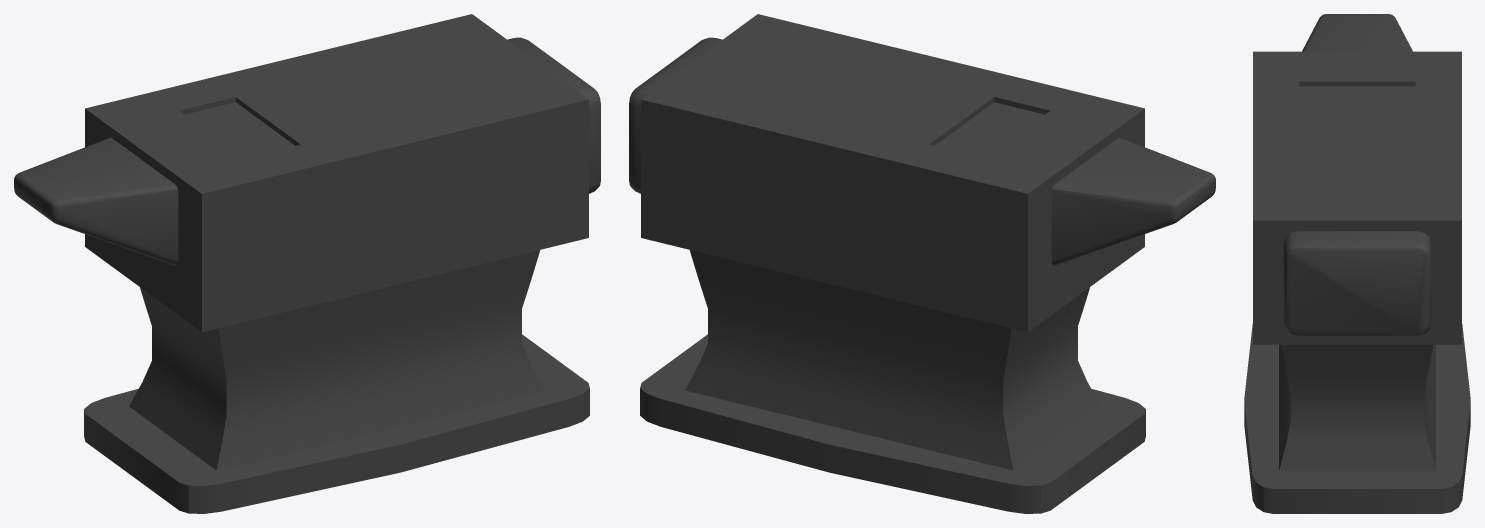
Rendered from anvil.fbx.
3 views of the same model, side by side, from view 1: azimuth 30°, elevation 25°; view 2: azimuth 150°, elevation 25°; view 3: azimuth 270°, elevation 25° (orthographic). The views are drawn at different scales.
Parts seen in each view (by area): view 1: Cube; view 2: Cube; view 3: Cube.
Boxes of the visible parts, left/top/right/bottom form: Cube: left=14, top=14, right=600, bottom=513; Cube: left=629, top=14, right=1215, bottom=513; Cube: left=1244, top=14, right=1470, bottom=513.
Bounding box in the file's own units: 91.45 × 53.15 × 37.83.
Materials: 1 (1 with a texture image).
